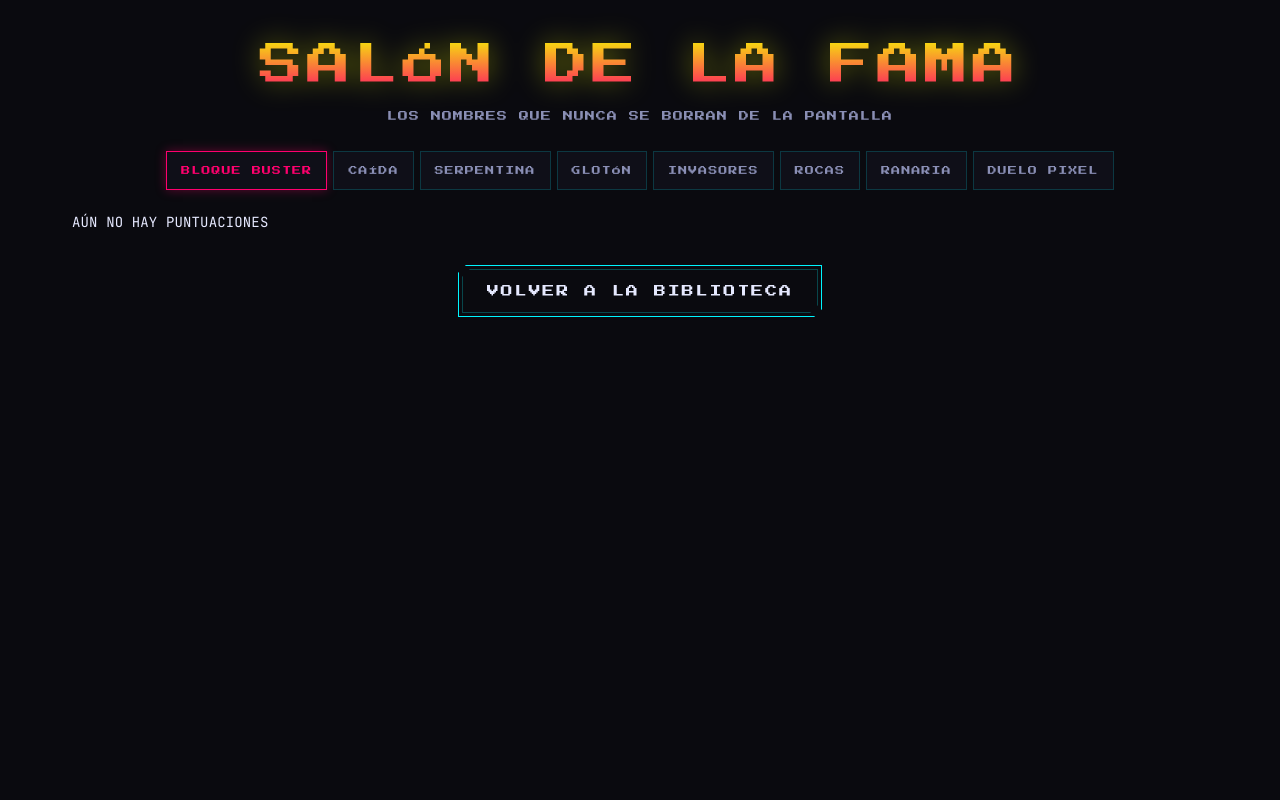
Scenario: LeaderboardScreen › lists the rows for the selected game with rank, name, score and date
Click the button "ROCAS".
click(820, 170)  # box [780,150,860,190]
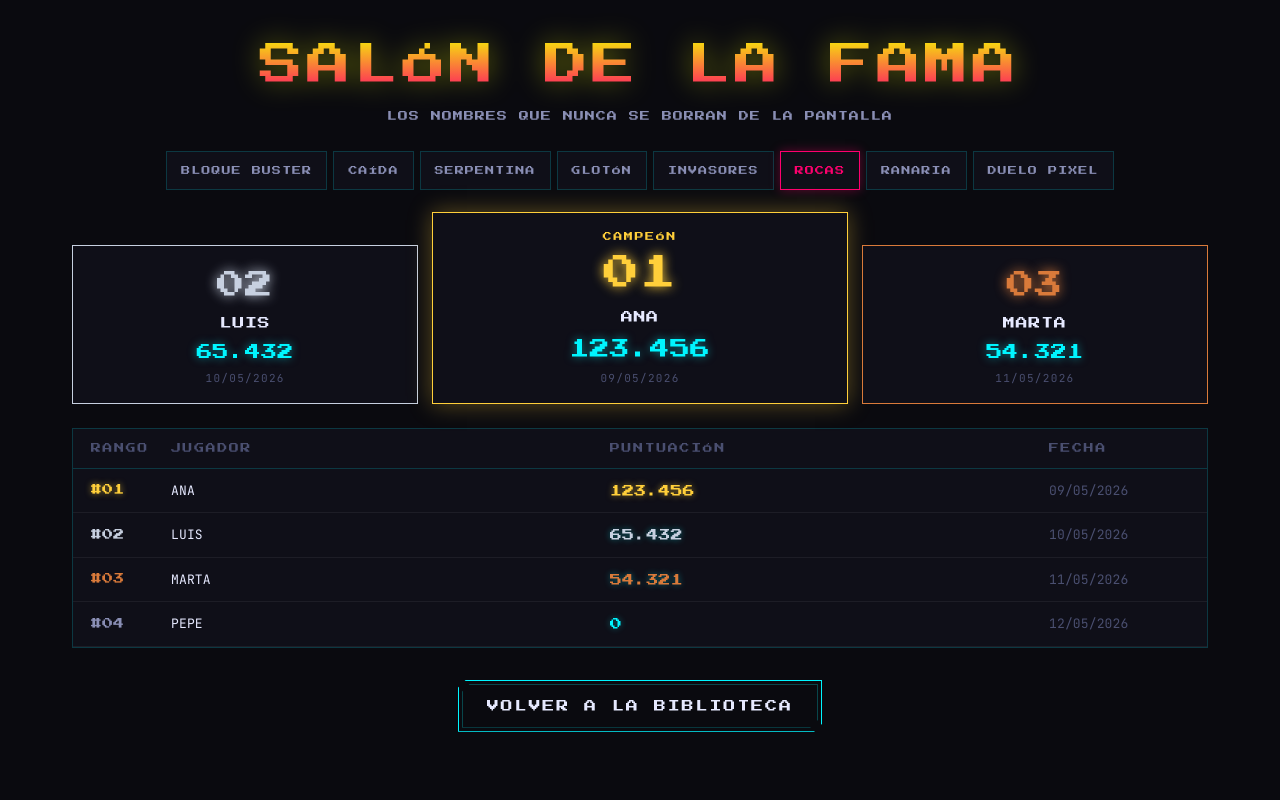
expect the text "#01" is shown: met, box [91,484,124,495]
expect the text "ANA" next to "#01" is shown: met, box [171,482,195,499]
expect the text "123.456" in the row of "#01" is shown: met, box [610,484,695,496]
